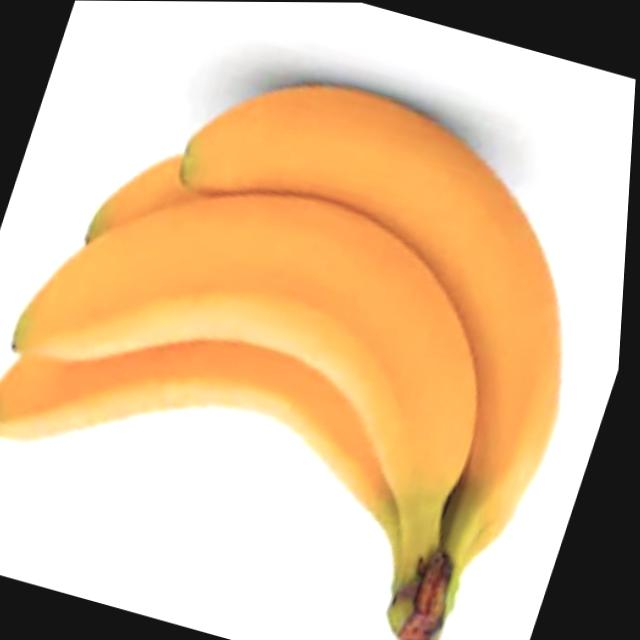Banana: (0, 17, 639, 640)
